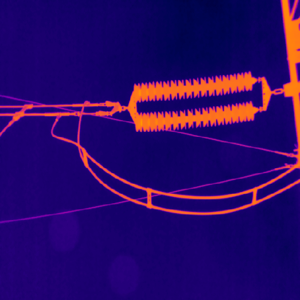insulator: (133, 70, 254, 101), (134, 98, 255, 129)
